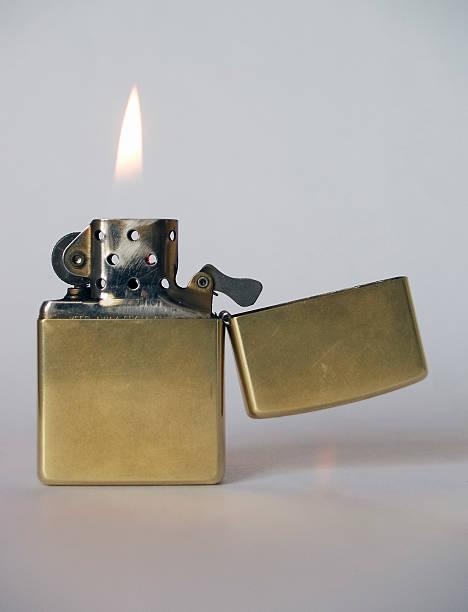Fire: (111, 81, 148, 184)
